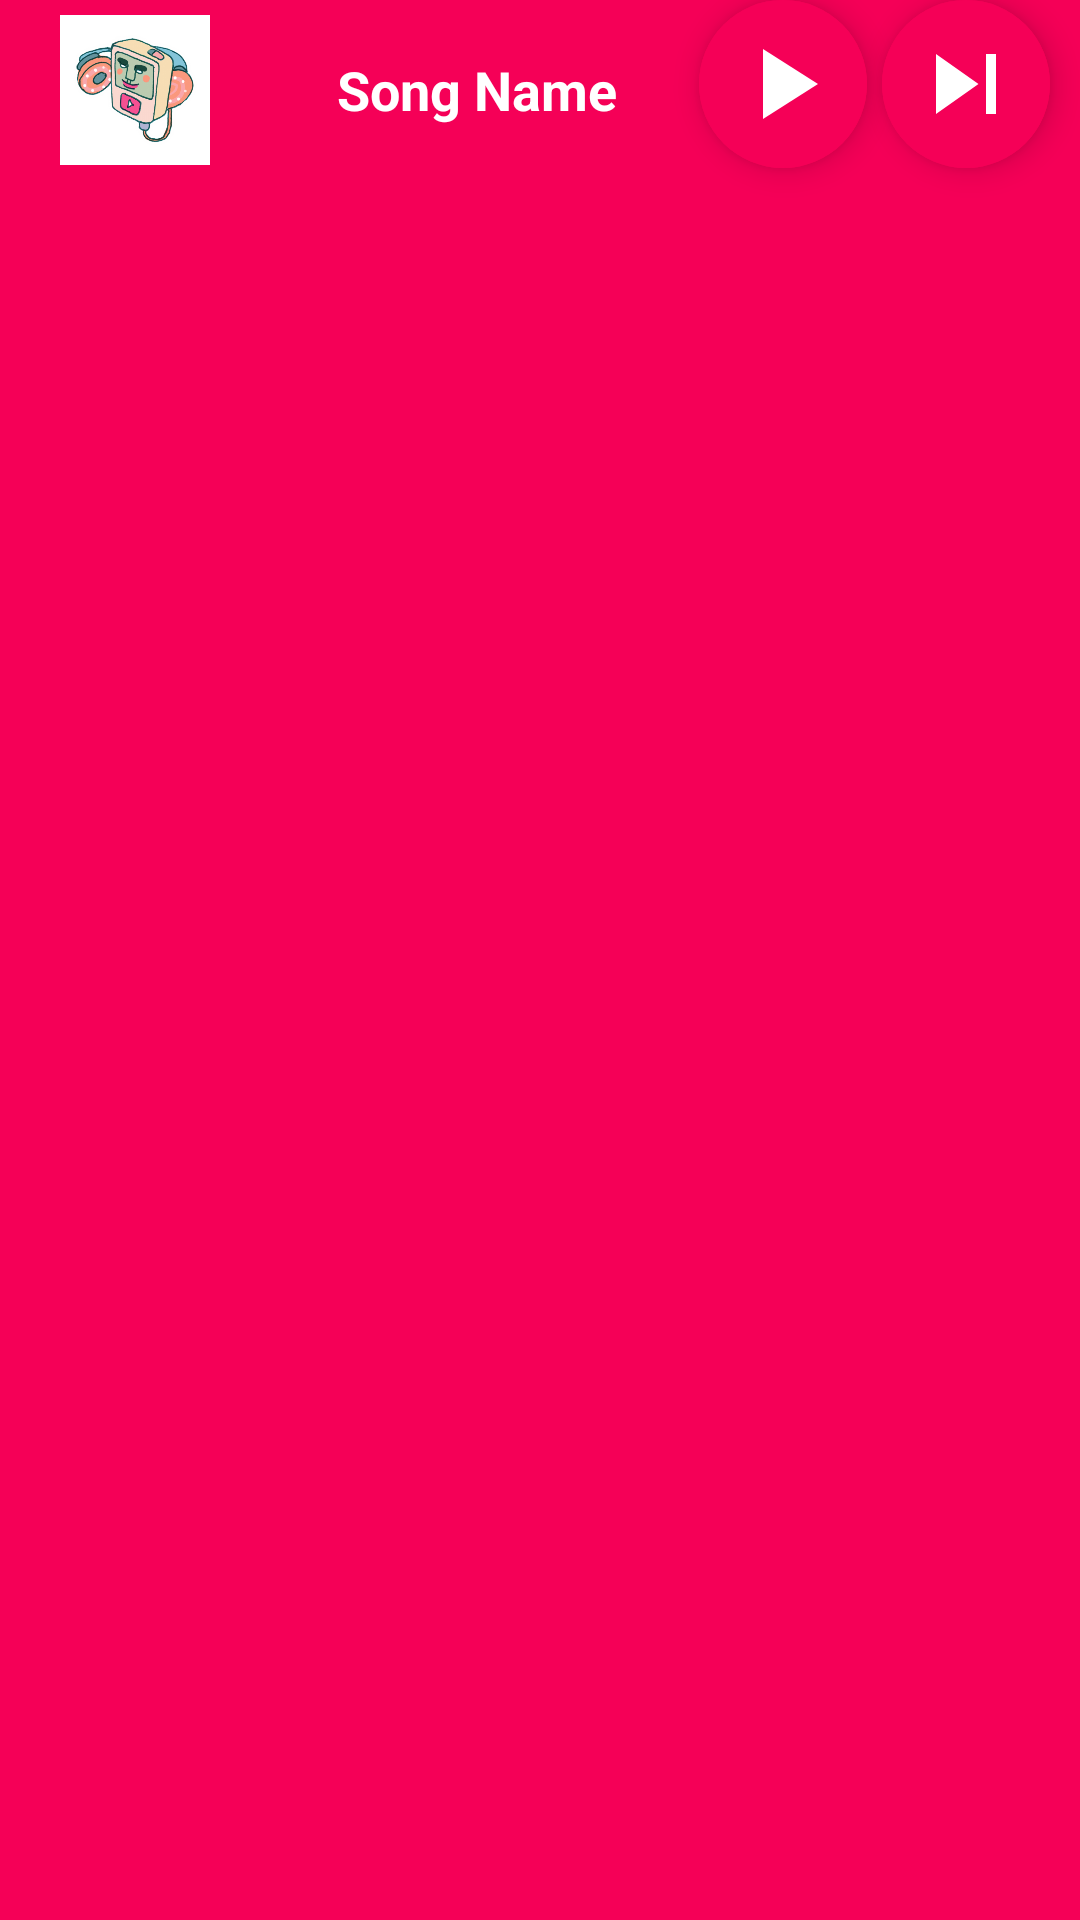

Screen size 1080x1920. Icon name, then its box in pixels as (x1, y1, x2, y2):
next: (882, 10, 1050, 168)
play: (763, 18, 867, 166)
